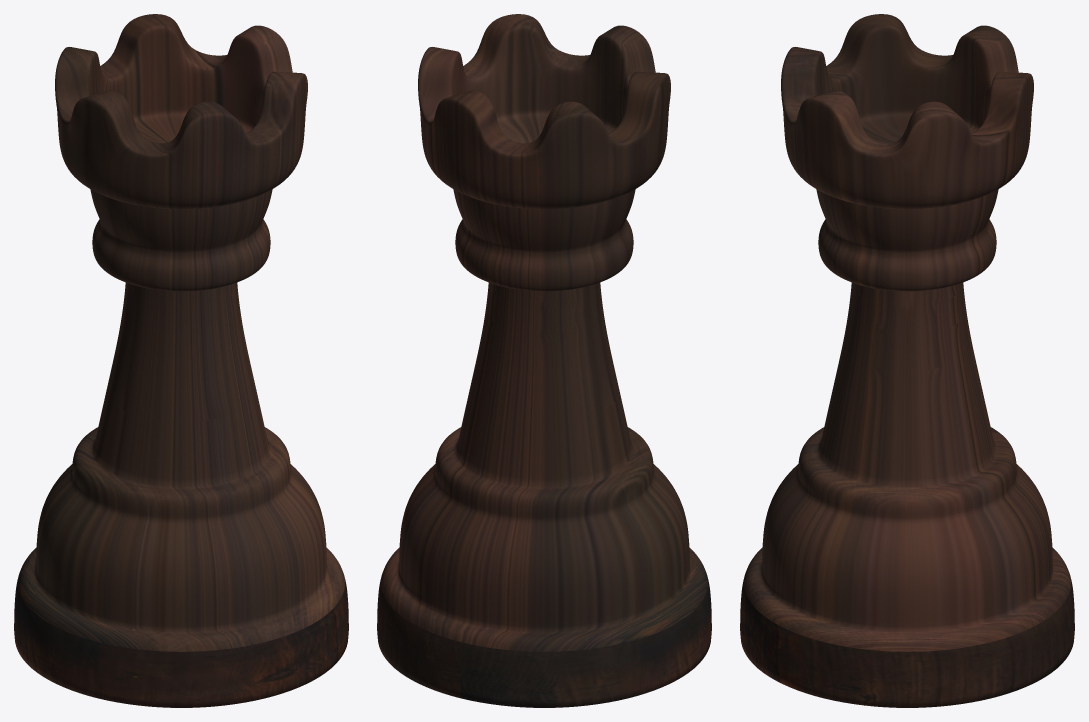
Rendered from rook.glb.
The picture shows the model from 3 angles, left to right: view 1: azimuth 30°, elevation 25°; view 2: azimuth 150°, elevation 25°; view 3: azimuth 270°, elevation 25°; orthographic projection.
Parts seen in each view (by area): view 1: Torre.000_Peca_0; view 2: Torre.000_Peca_0; view 3: Torre.000_Peca_0.
Boxes of the visible parts, x1=… form: Torre.000_Peca_0: x1=14, y1=14, x2=348, y2=707; Torre.000_Peca_0: x1=377, y1=14, x2=711, y2=707; Torre.000_Peca_0: x1=740, y1=14, x2=1074, y2=707.
Size of the model in its own units: 2.69 by 5.1 by 2.69.
Materials: 1 (1 with a texture image).
